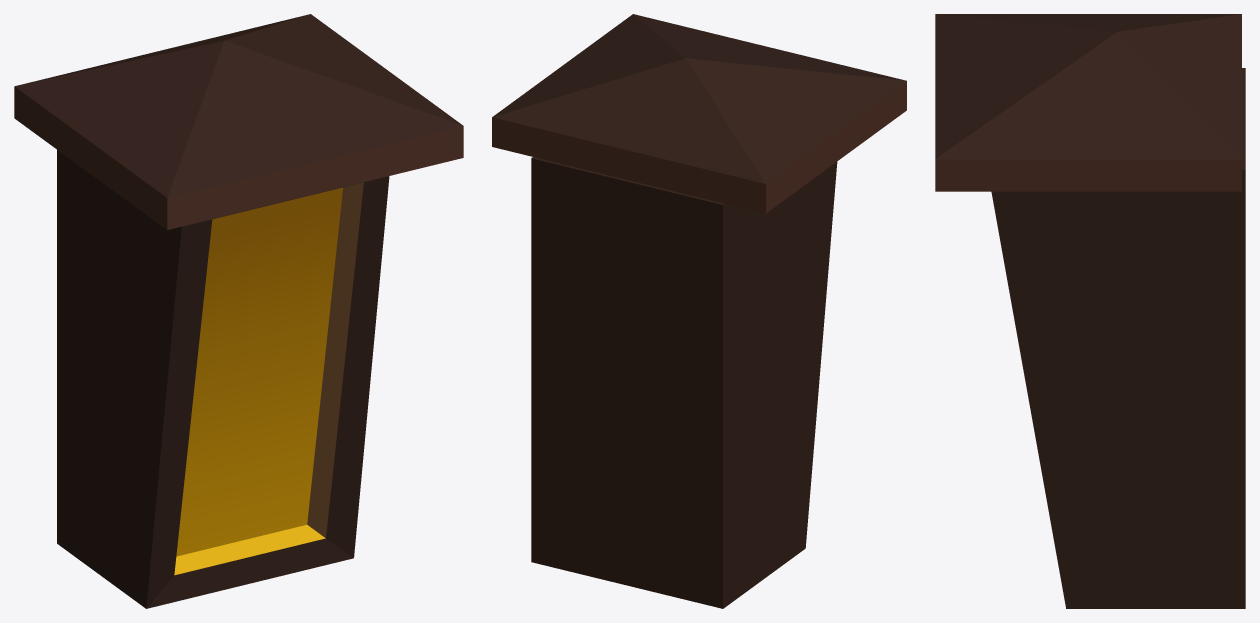
The model's file is Outdoor Box Lamp 2.glb.
3 views of the same model, side by side, from view 1: azimuth 30°, elevation 25°; view 2: azimuth 150°, elevation 25°; view 3: azimuth 270°, elevation 25° (orthographic). The views are drawn at different scales.
Visible parts, largest first — view 1: Outdoor Box Lamp2; view 2: Outdoor Box Lamp2; view 3: Outdoor Box Lamp2.
Part boxes in pixels (x1=…): Outdoor Box Lamp2: x1=14, y1=14, x2=463, y2=608; Outdoor Box Lamp2: x1=492, y1=14, x2=906, y2=608; Outdoor Box Lamp2: x1=935, y1=14, x2=1245, y2=608.
Bounding box in the file's own units: 0.5649 × 0.9548 × 0.5105.
1 material, 1 textured.
